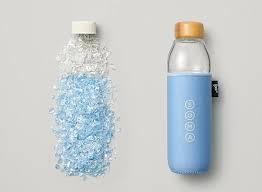Glass bottle: (158, 14, 216, 177)
